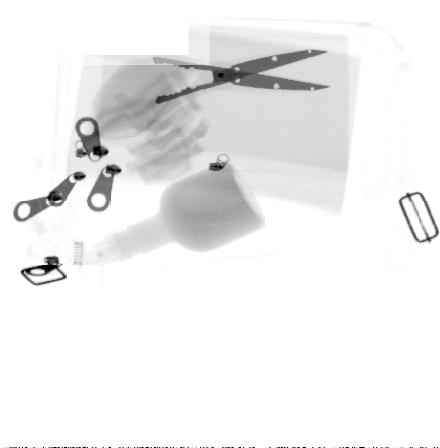Scissors: (84, 27, 332, 141)
